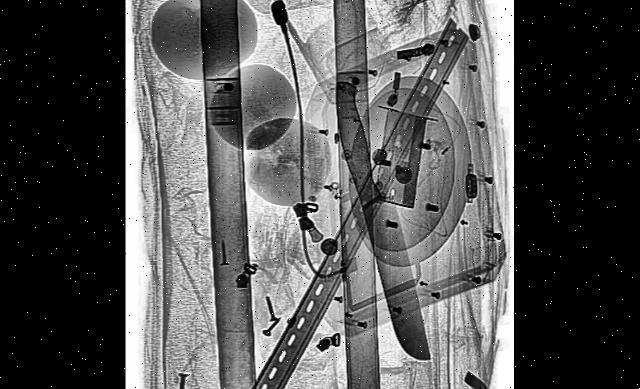Knife: (327, 62, 436, 379)
